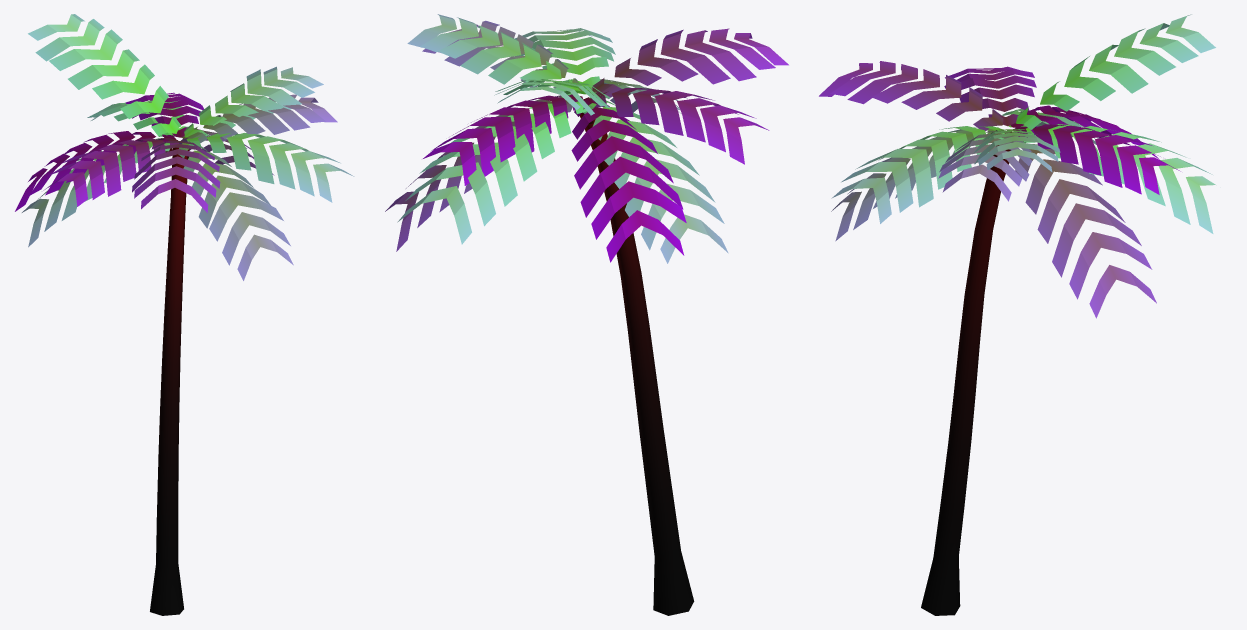
File: Palm5_Mid.fbx
3 renders of one model, left to right at view 1: azimuth 30°, elevation 25°; view 2: azimuth 150°, elevation 25°; view 3: azimuth 270°, elevation 25°, orthographic. The views are drawn at different scales.
Parts seen in each view (by area): view 1: Palm5_Lite; view 2: Palm5_Lite; view 3: Palm5_Lite.
Part boxes in pixels (x1,y1,x2,y2): Palm5_Lite: [15, 14, 354, 615]; Palm5_Lite: [385, 14, 788, 615]; Palm5_Lite: [819, 14, 1215, 615].
Size of the model in its own units: 7.63 by 13.61 by 8.72.
